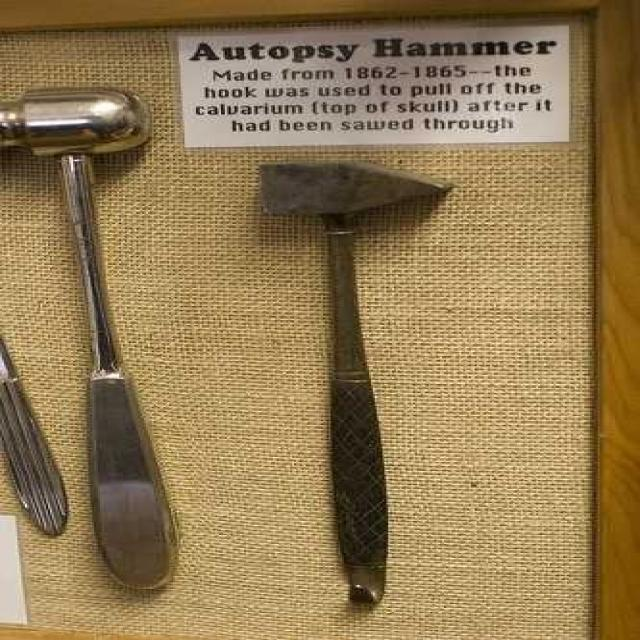hammer: (248, 148, 518, 572)
